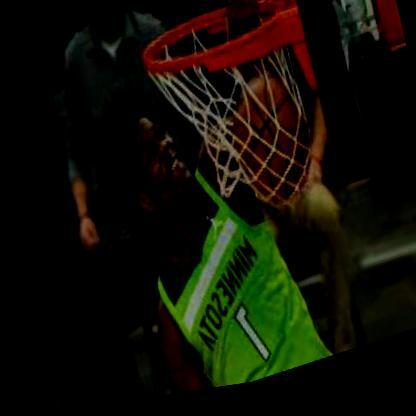basketball: (221, 72, 321, 225)
rim: (134, 0, 306, 102)
